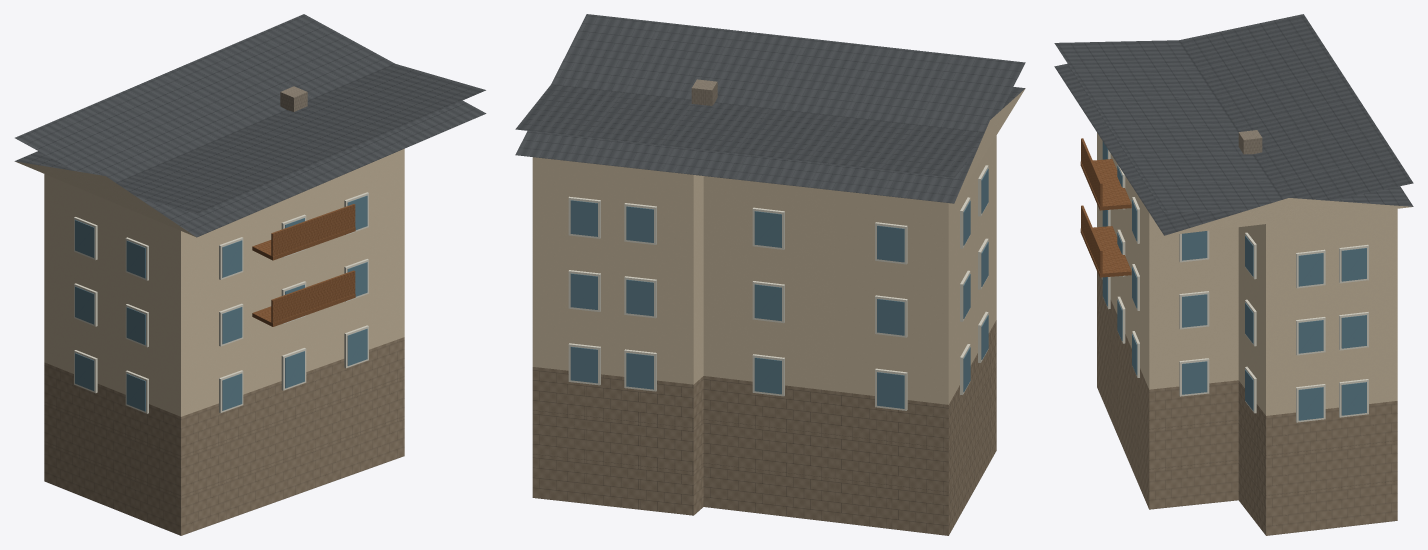
The model's file is core_0119.gltf.
3 views of the same model, side by side, from view 1: azimuth 30°, elevation 25°; view 2: azimuth 150°, elevation 25°; view 3: azimuth 270°, elevation 25° (orthographic). The views are drawn at different scales.
Visible parts, largest first — view 1: core_0119; view 2: core_0119; view 3: core_0119.
Part boxes in pixels (box(x1,y1,x2,y2)): core_0119: box(14, 14, 486, 535); core_0119: box(515, 14, 1025, 535); core_0119: box(1054, 14, 1413, 535).
Bounding box in the file's own units: 18.07 × 14.65 × 13.84.
7 materials, 7 textured.
